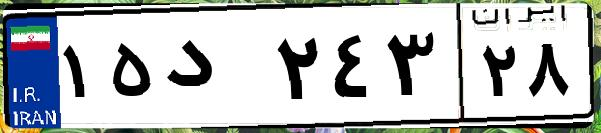1: (57, 26, 110, 100)
2: (270, 28, 330, 110), (475, 38, 525, 113)
3: (385, 28, 445, 110)
4: (330, 28, 385, 110)
5: (110, 28, 158, 98)
8: (525, 38, 570, 115)
د: (158, 20, 270, 120)
